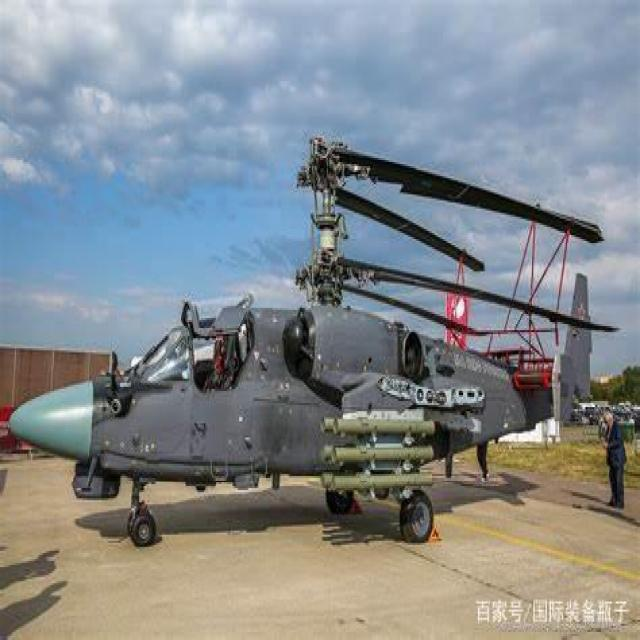MIL_HELO: (0, 121, 640, 549)
